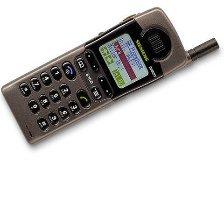phone: (0, 3, 223, 145)
